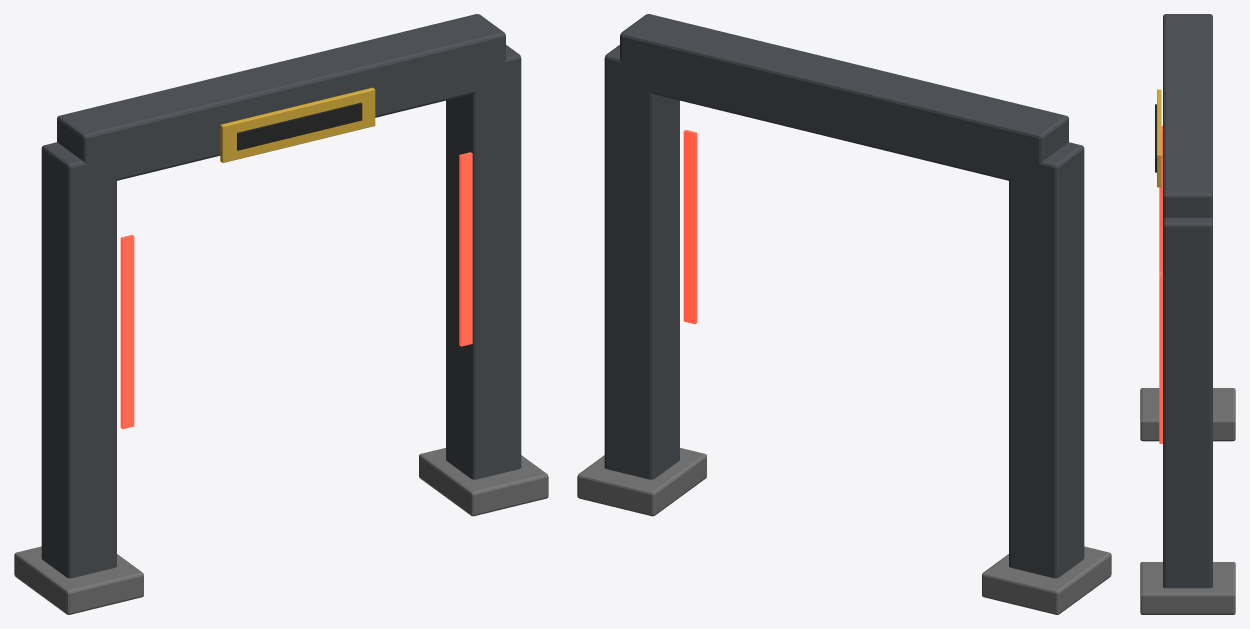
File: gate.glb
The picture shows the model from 3 angles, left to right: view 1: azimuth 30°, elevation 25°; view 2: azimuth 150°, elevation 25°; view 3: azimuth 270°, elevation 25°; orthographic projection. The views are drawn at different scales.
Visible parts, largest first — view 1: gate; view 2: gate; view 3: gate.
Boxes of the visible parts, <box> form: gate: <box>14,14,548,614</box>; gate: <box>577,14,1111,614</box>; gate: <box>1140,14,1235,614</box>.
Size of the model in its own units: 4.1 by 3.77 by 0.8.
